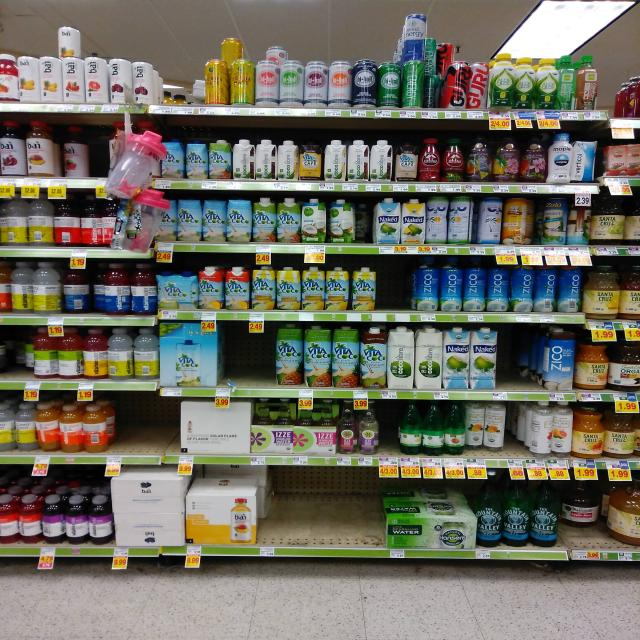void: (264, 469, 376, 548), (109, 398, 174, 452), (223, 324, 272, 386), (158, 44, 200, 102), (501, 325, 537, 390), (379, 258, 411, 312)
